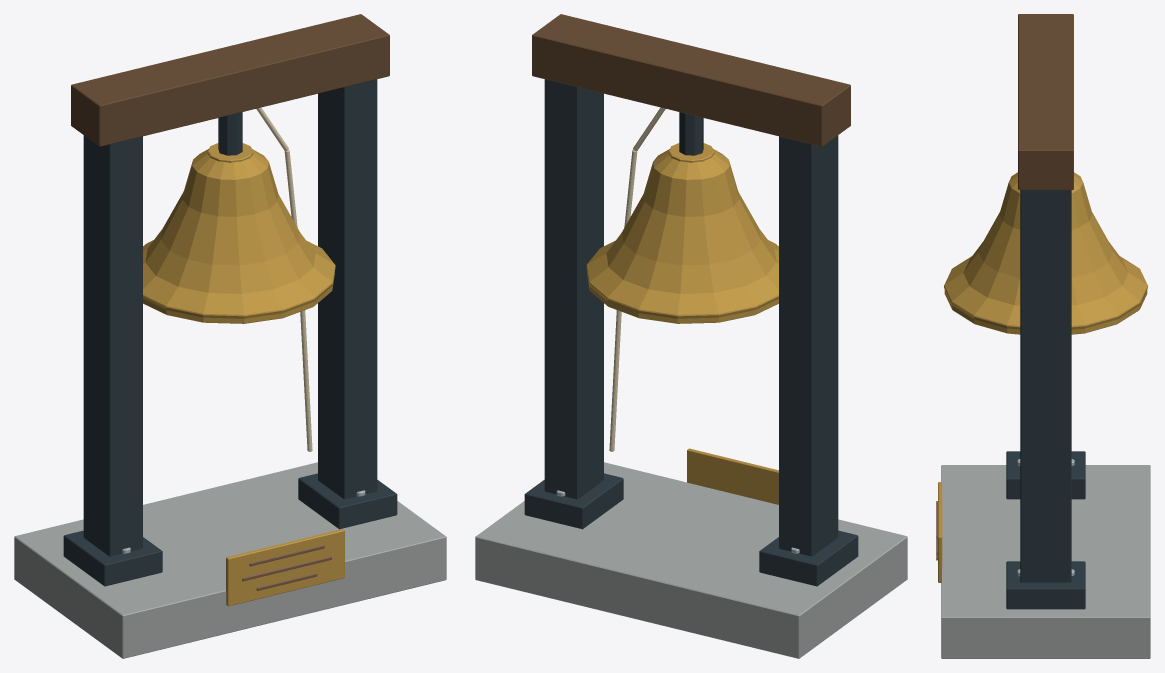
File: b18_civic_bell_memorial.glb
3 renders of one model, left to right at view 1: azimuth 30°, elevation 25°; view 2: azimuth 150°, elevation 25°; view 3: azimuth 270°, elevation 25°, orthographic. The views are drawn at different scales.
Visible parts, largest first — view 1: b18_civic_bell_memorial; view 2: b18_civic_bell_memorial; view 3: b18_civic_bell_memorial.
Boxes of the visible parts, <box> form: b18_civic_bell_memorial: <box>14,14,446,658</box>; b18_civic_bell_memorial: <box>475,14,907,658</box>; b18_civic_bell_memorial: <box>936,14,1150,658</box>.
Size of the model in its own units: 1.55 by 2.38 by 0.9215.
